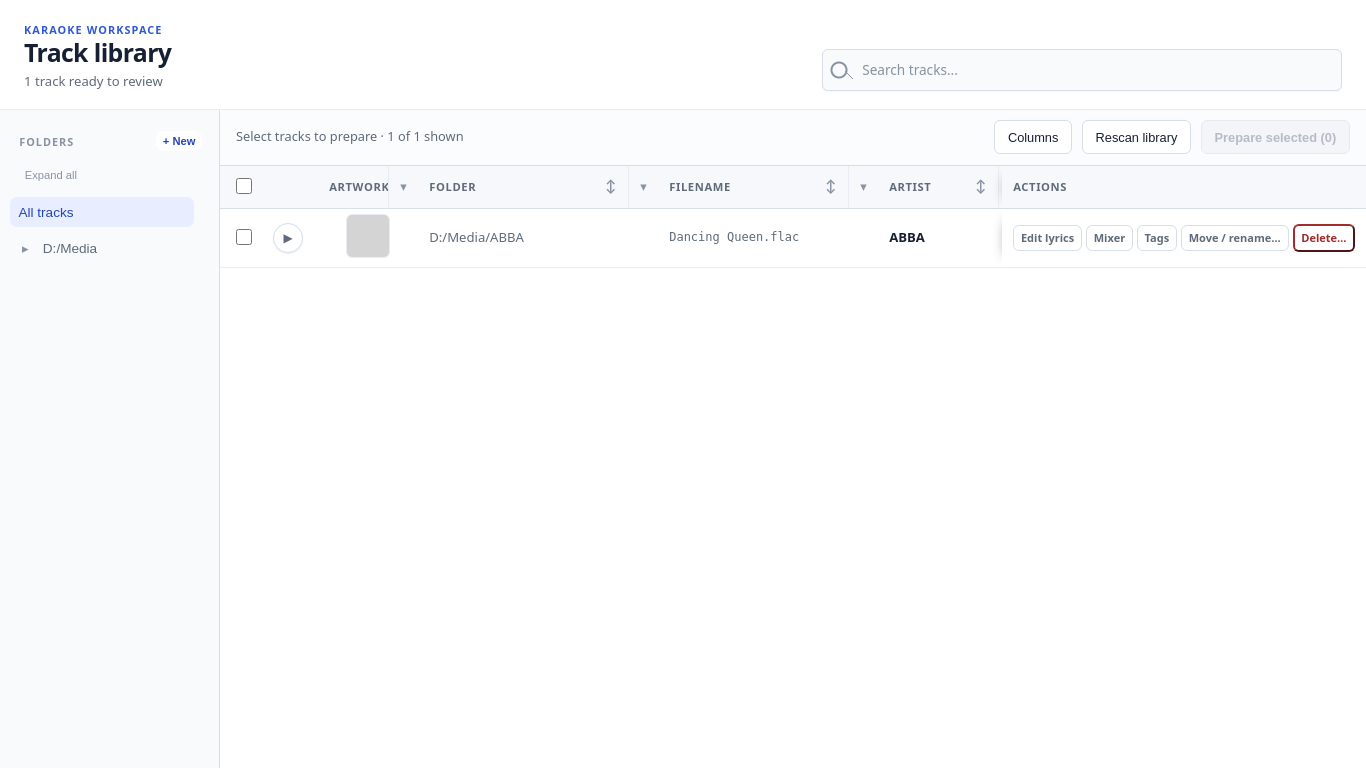
Test: Library › rescans and then refreshes the visible library while the app is running
Check: the text "Dancing Queen" is shown, box [1028,209,1288,268]
Click the button "Rescan library": (1136, 137) [1082,120,1191,154]
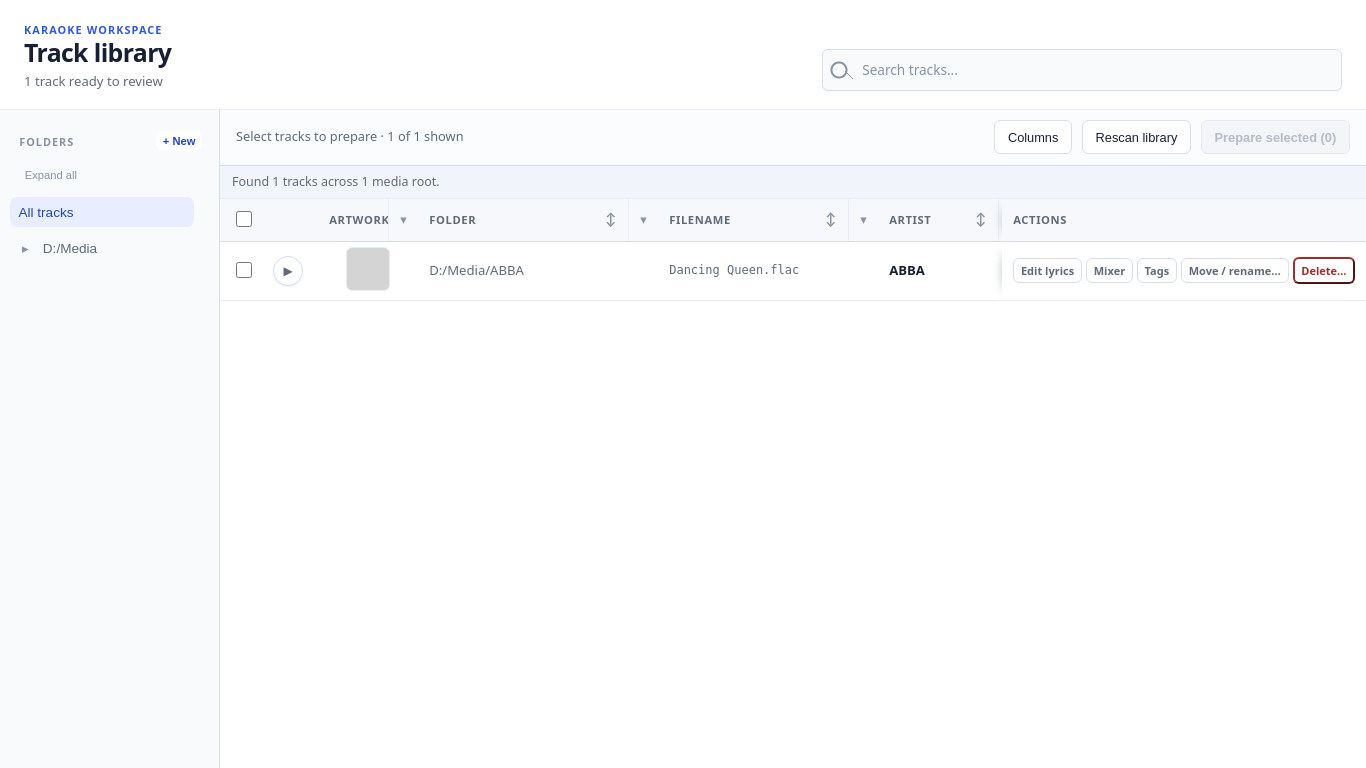
Check: the text "Newly Added" is shown, box [1028,242,1288,301]
Check: the text "Found 1 tracks across 1 media root." is shown, box [220,166,1365,198]
